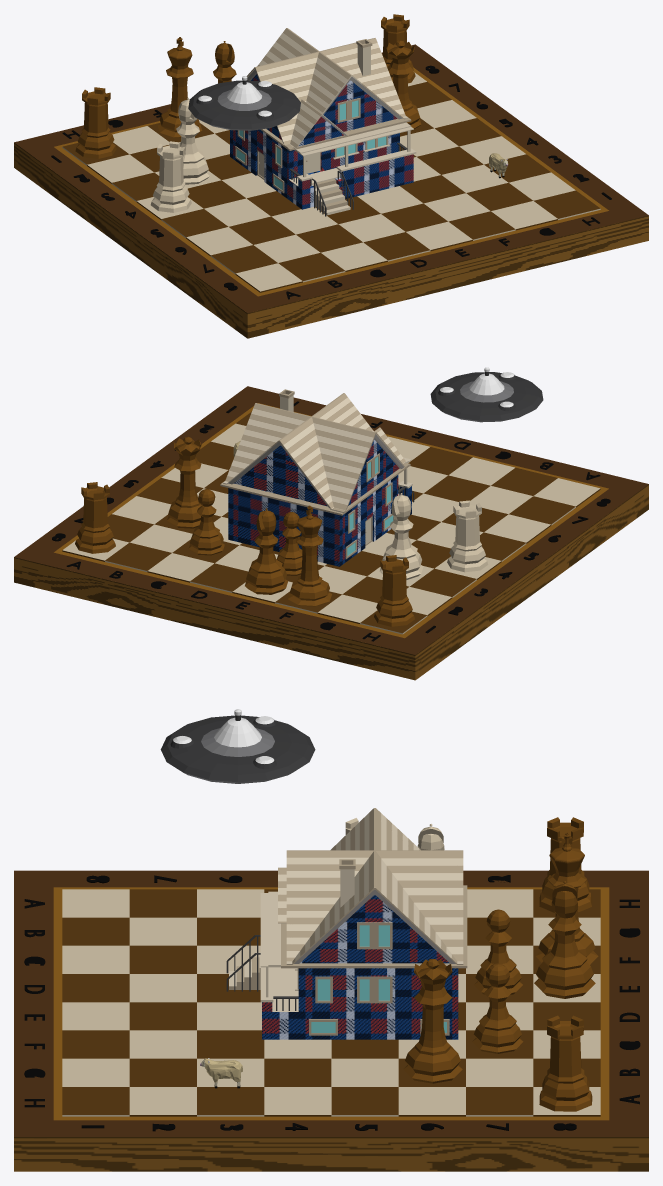
3 views of the same model, one above another, from view 1: azimuth 30°, elevation 25°; view 2: azimuth 150°, elevation 25°; view 3: azimuth 270°, elevation 25° (orthographic). The views are drawn at different scales.
Parts seen in each view (by area): view 1: Cube.002, Cube.171, OBJRANDOM_UFO; view 2: Cube.002, Cube.171, OBJRANDOM_UFO; view 3: Cube.002, Cube.171, OBJRANDOM_UFO, ANIMAL_OVEJA.
Part boxes in pixels (x1,y1,x2,y2): Cube.002: [14, 14, 648, 338]; Cube.171: [230, 28, 416, 216]; OBJRANDOM_UFO: [188, 76, 300, 130]; Cube.002: [14, 386, 648, 680]; Cube.171: [220, 389, 414, 566]; OBJRANDOM_UFO: [430, 367, 543, 422]; Cube.002: [14, 817, 648, 1171]; Cube.171: [226, 808, 467, 1039]; OBJRANDOM_UFO: [160, 709, 315, 783]; ANIMAL_OVEJA: [200, 1058, 242, 1088].
Size of the model in its own units: 3981 by 1817 by 4012.
24 materials, 3 textured.
